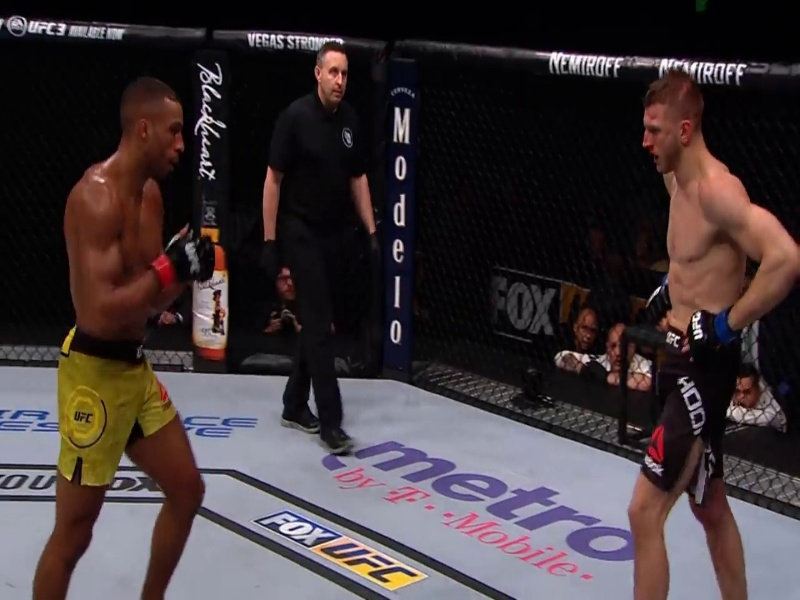fighter: (581, 44, 800, 588), (39, 75, 234, 600)
